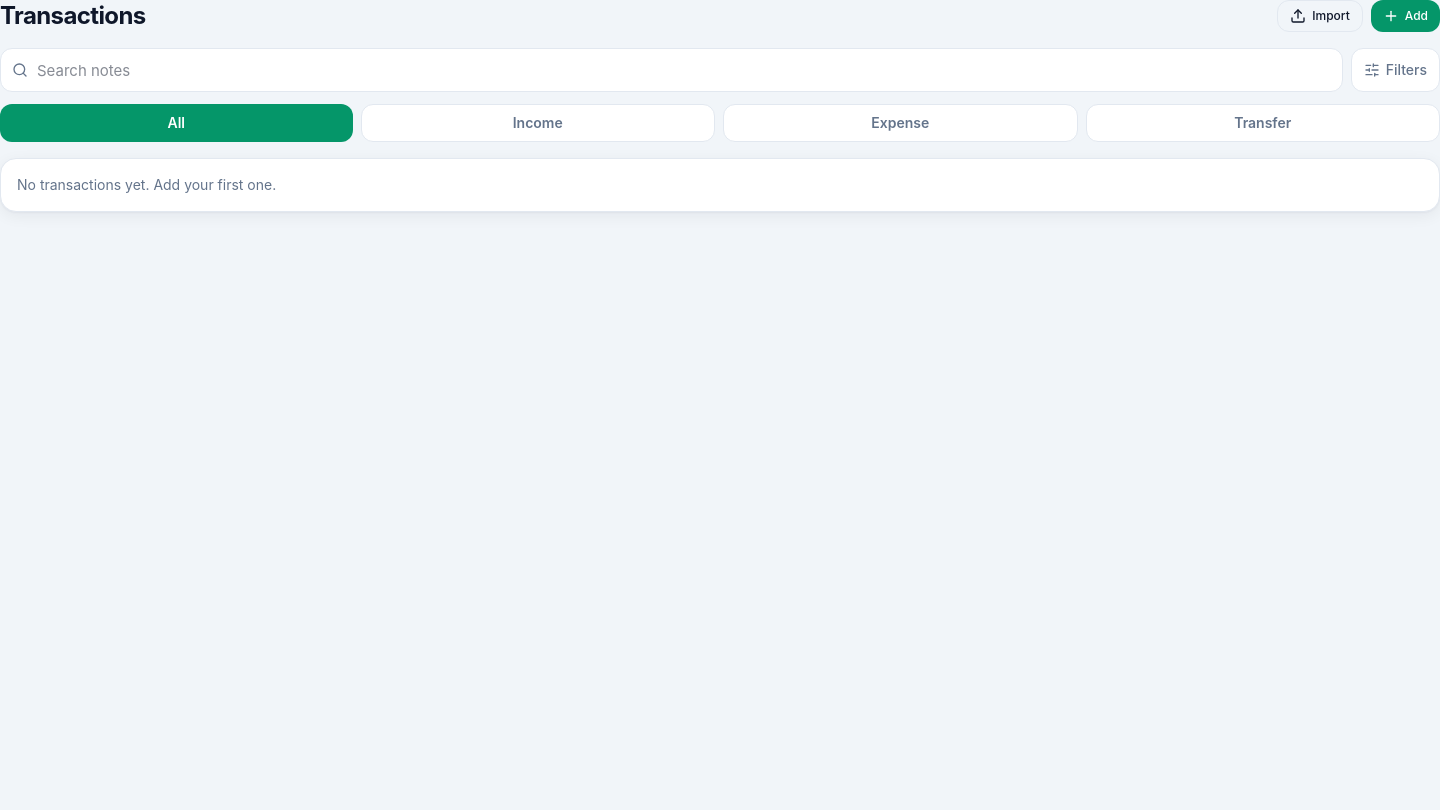
Test: Transactions page › adds a transaction with a categoryId and timezone
Expected: the text "No transactions yet. Add your first one." is shown, [17,176,276,193]
Click the button "Add" at (1405,16), box [1371,0,1439,32]
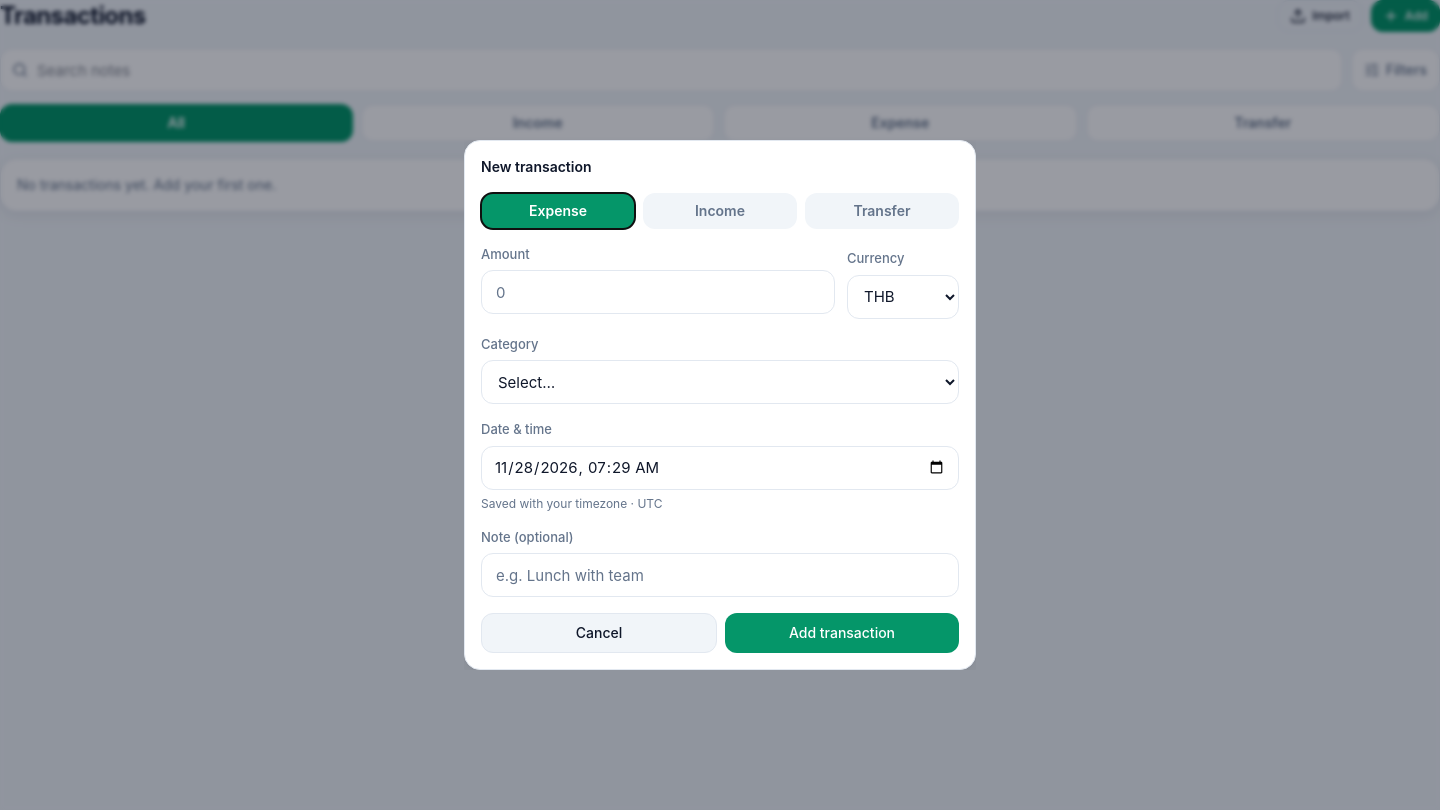
Type "120" into the number field labelled "Amount" at (658,292), box [481,270,835,314]
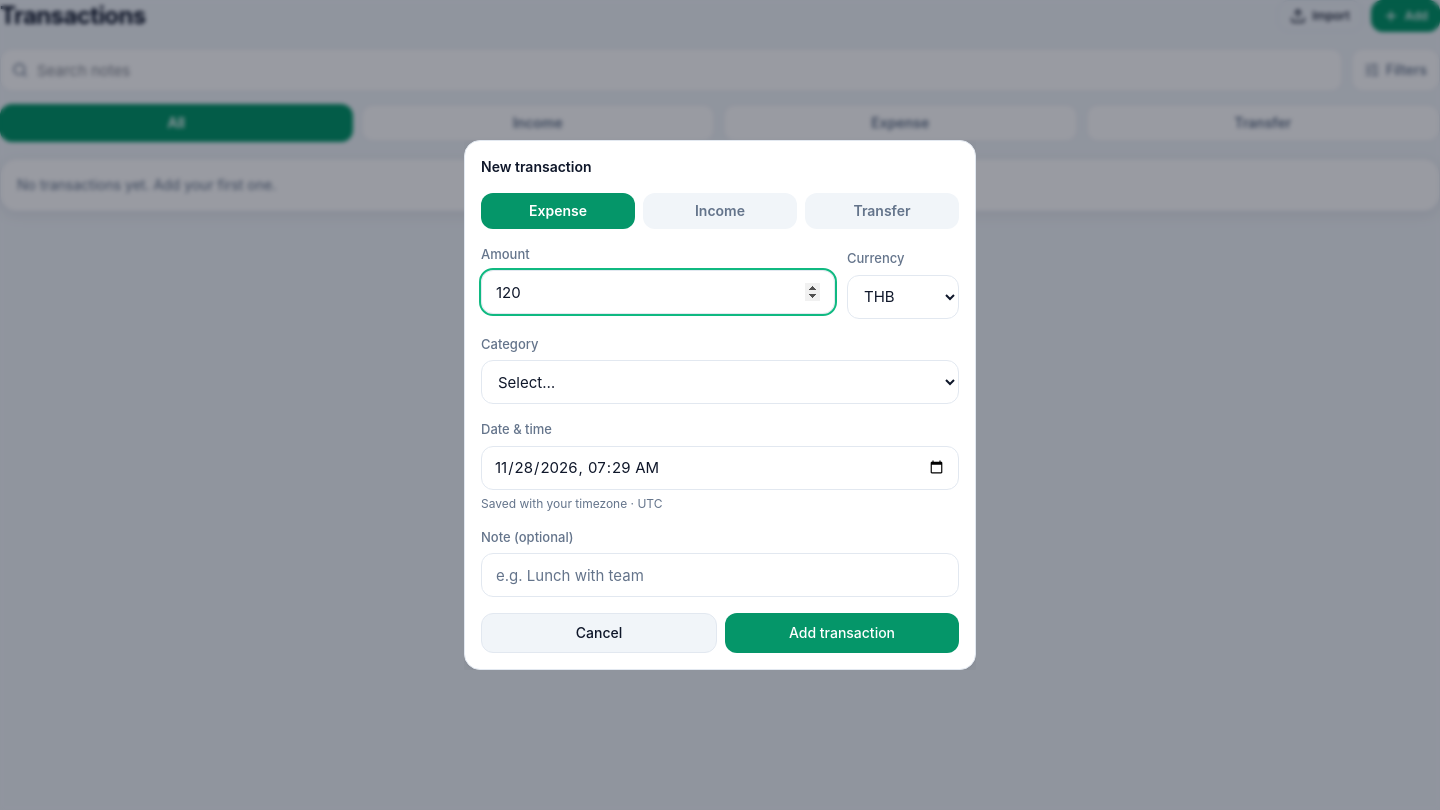
Select "Food & Dining" in the dropdown labelled "Category" at (720,382), box [481,360,959,404]
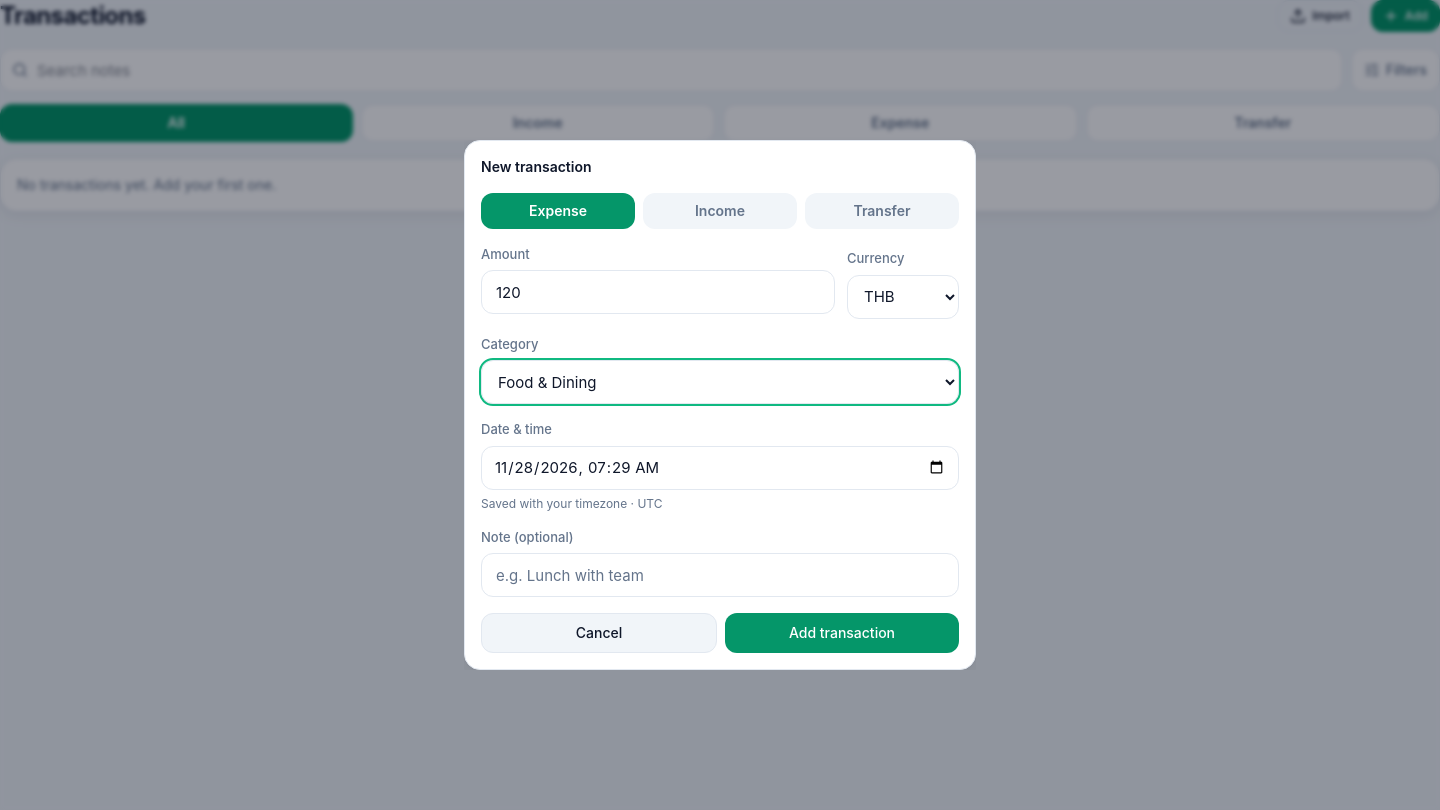
Click the button "Add transaction" at (842,633), box [725,613,959,653]
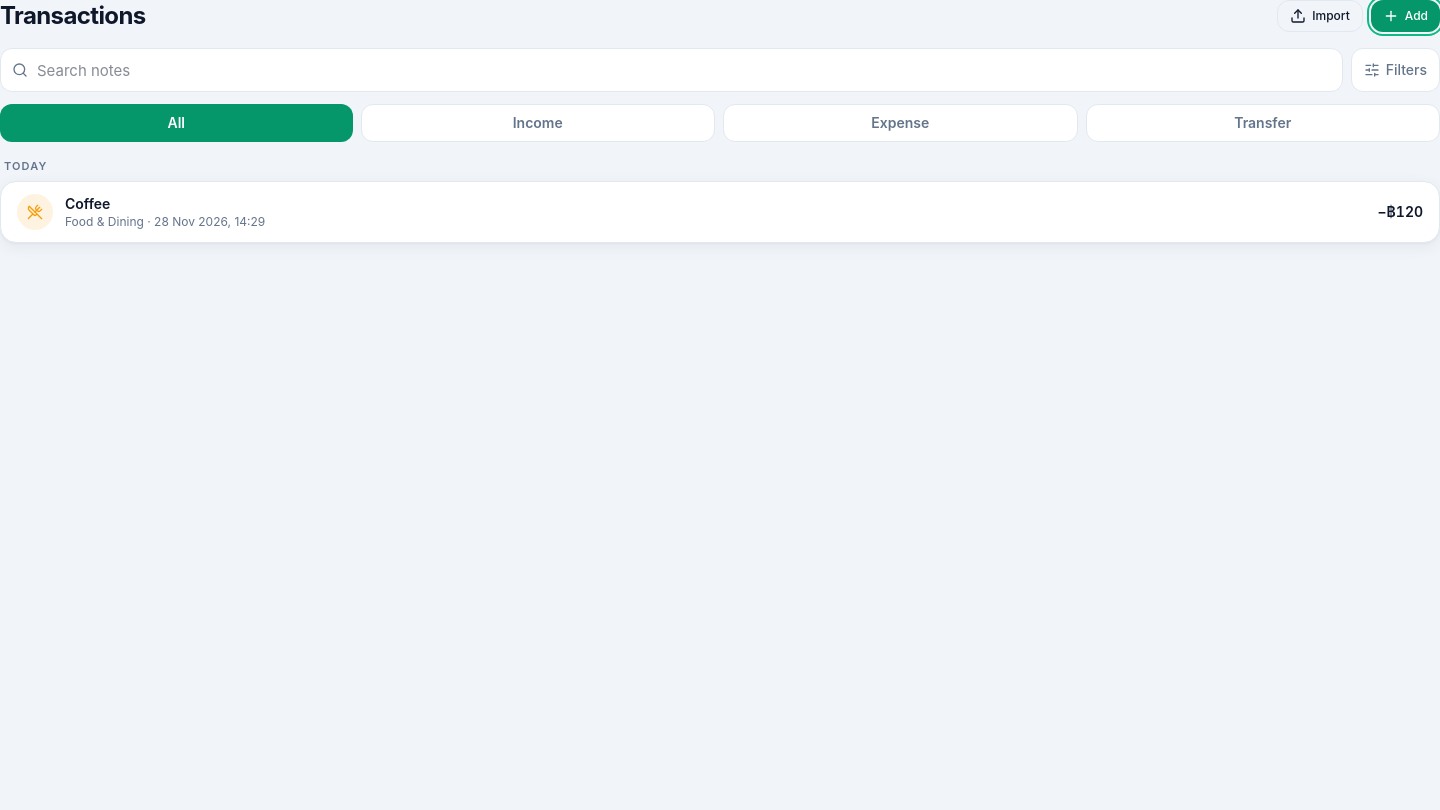
Expected: the text "Coffee" is shown, [65,194,110,214]
